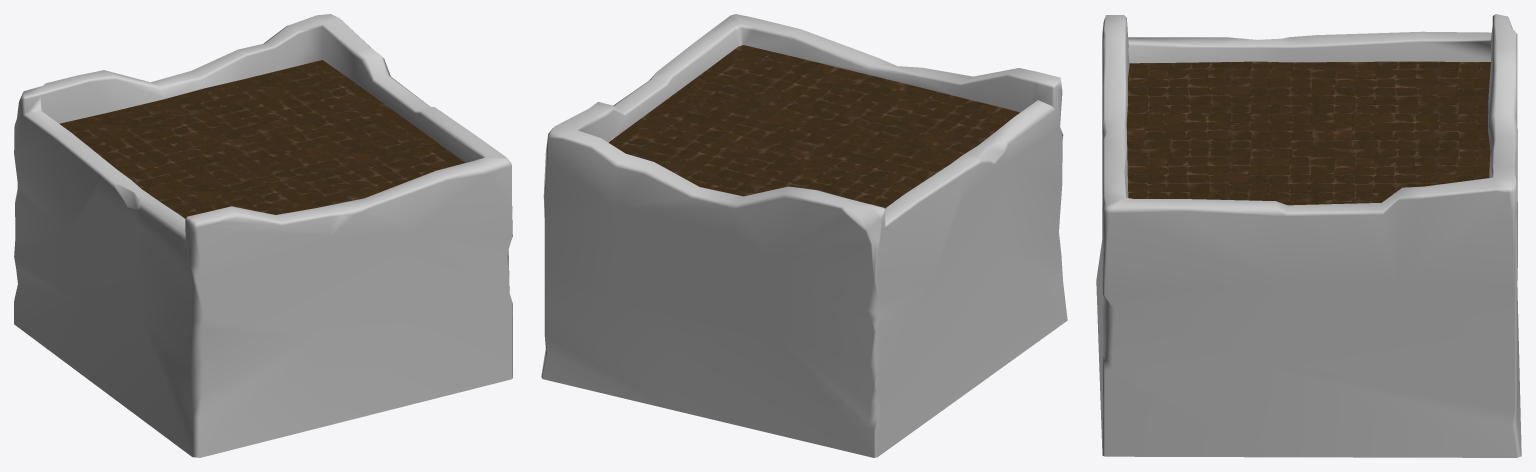
The model's file is lower_city_house_09.fbx.
3 renders of one model, left to right at view 1: azimuth 30°, elevation 25°; view 2: azimuth 150°, elevation 25°; view 3: azimuth 270°, elevation 25°, orthographic. The views are drawn at different scales.
Visible parts, largest first — view 1: lower_city_house_09; view 2: lower_city_house_09; view 3: lower_city_house_09.
Boxes of the visible parts, x1,y1,x2,y2 form: lower_city_house_09: [14, 14, 512, 457]; lower_city_house_09: [541, 14, 1067, 457]; lower_city_house_09: [1096, 14, 1521, 457].
Size of the model in its own units: 7.65 by 5.31 by 7.63.
